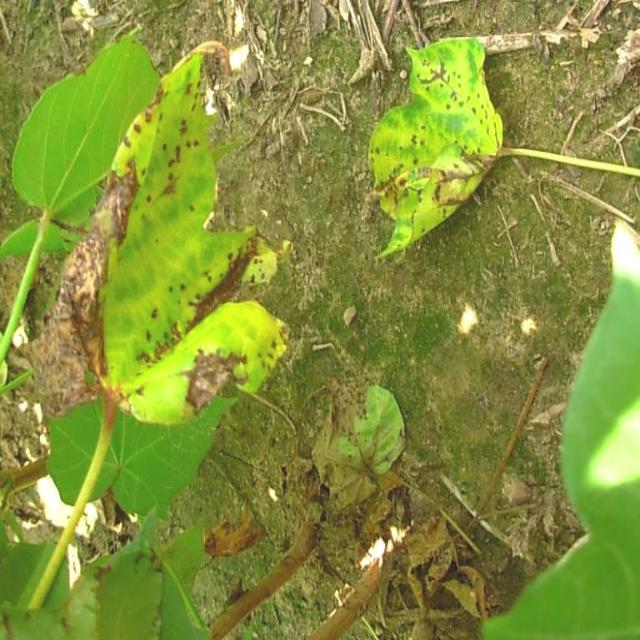Bacterial Blight: (80, 78, 260, 404)
